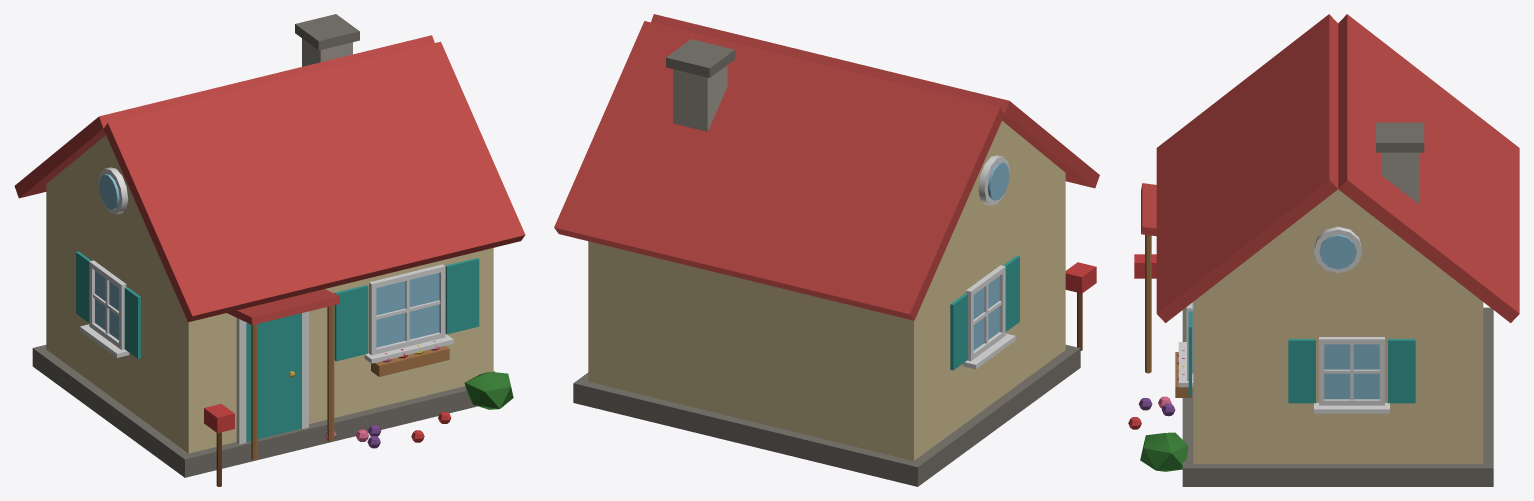
The model's file is keller_house.gltf.
3 views of the same model, side by side, from view 1: azimuth 30°, elevation 25°; view 2: azimuth 150°, elevation 25°; view 3: azimuth 270°, elevation 25° (orthographic). The views are drawn at different scales.
Parts seen in each view (by area): view 1: keller_house; view 2: keller_house; view 3: keller_house.
Boxes of the visible parts, x1,y1,x2,y2 form: keller_house: (14,14,525,486); keller_house: (554,14,1099,486); keller_house: (1128,14,1519,486).
Size of the model in its own units: 5.68 by 5.07 by 5.67.
